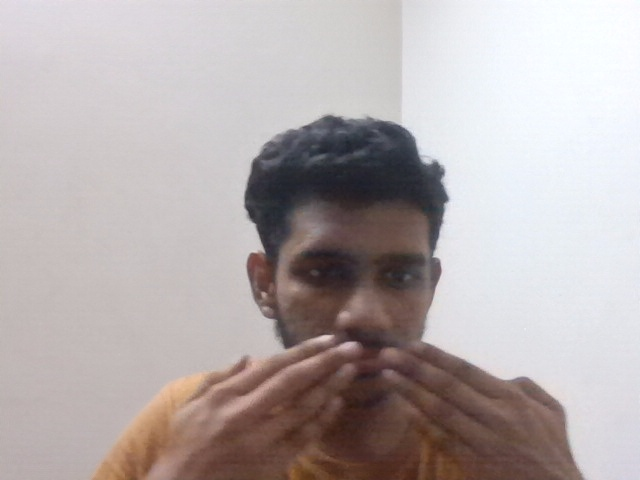thanks: (115, 334, 590, 467)
